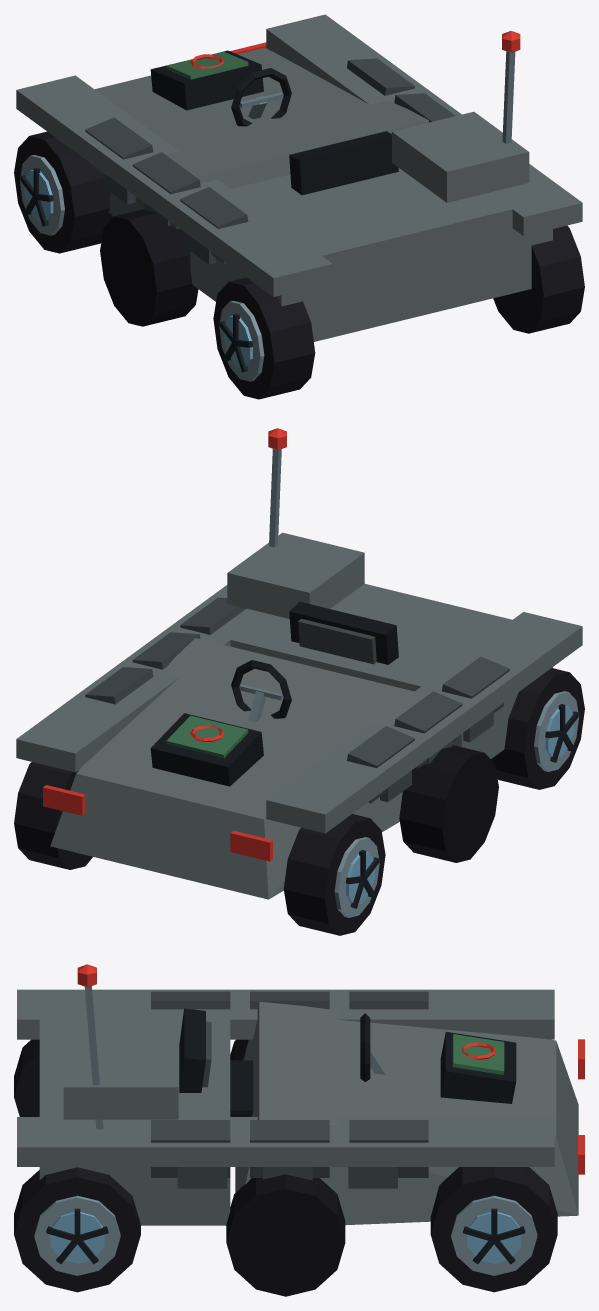
The model's file is kart.glb.
3 renders of one model, top to bottom at view 1: azimuth 30°, elevation 25°; view 2: azimuth 150°, elevation 25°; view 3: azimuth 270°, elevation 25°, orthographic. The views are drawn at different scales.
Parts seen in each view (by area): view 1: identity-apc-apc-armored-hull, wheel-rear-left, wheel-front-left, identity-apc-motif-armor, identity-apc-driver-cockpit, wheel-rear-right, identity-apc-motif-scanner, identity-apc-motif-antenna; view 2: identity-apc-apc-armored-hull, wheel-front-left, identity-apc-motif-armor, wheel-rear-left, identity-apc-driver-cockpit, identity-apc-motif-scanner, wheel-front-right, identity-apc-motif-antenna; view 3: identity-apc-apc-armored-hull, wheel-front-right, wheel-rear-right, identity-apc-motif-armor, identity-apc-motif-scanner, identity-apc-driver-cockpit, wheel-rear-left, identity-apc-motif-antenna.
Part boxes in pixels (x1,y1,x2,y2): identity-apc-apc-armored-hull: (16,14,582,341); wheel-rear-left: (213,277,315,399); wheel-front-left: (14,131,113,253); identity-apc-motif-armor: (85,58,455,264); identity-apc-driver-cockpit: (231,68,398,195); wheel-rear-right: (493,225,584,333); identity-apc-motif-scanner: (150,50,263,110); identity-apc-motif-antenna: (502,31,520,143); identity-apc-apc-armored-hull: (16,532,582,899); wheel-front-left: (283,814,385,935); identity-apc-motif-armor: (85,597,509,803); wheel-rear-left: (491,668,584,789); identity-apc-driver-cockpit: (231,601,398,722); identity-apc-motif-scanner: (150,713,263,786); wheel-front-right: (14,762,92,869); identity-apc-motif-antenna: (268,428,286,547); identity-apc-apc-armored-hull: (17,989,584,1296); wheel-front-right: (430,1167,557,1292); wheel-rear-right: (14,1167,140,1292); identity-apc-motif-armor: (151,991,428,1177); identity-apc-motif-scanner: (440,1031,516,1103); identity-apc-driver-cockpit: (179,1008,385,1116); wheel-rear-left: (14,1039,39,1116); identity-apc-motif-antenna: (77,964,103,1129).
Bounding box in the file's own units: 2.08 × 1.72 × 2.88.
